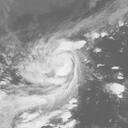cyclone: (35, 41, 79, 89)
